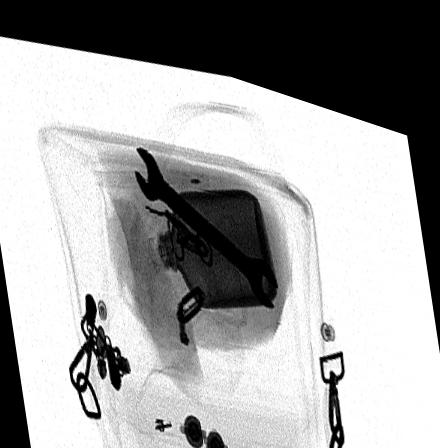Wrench: (130, 137, 280, 294)
